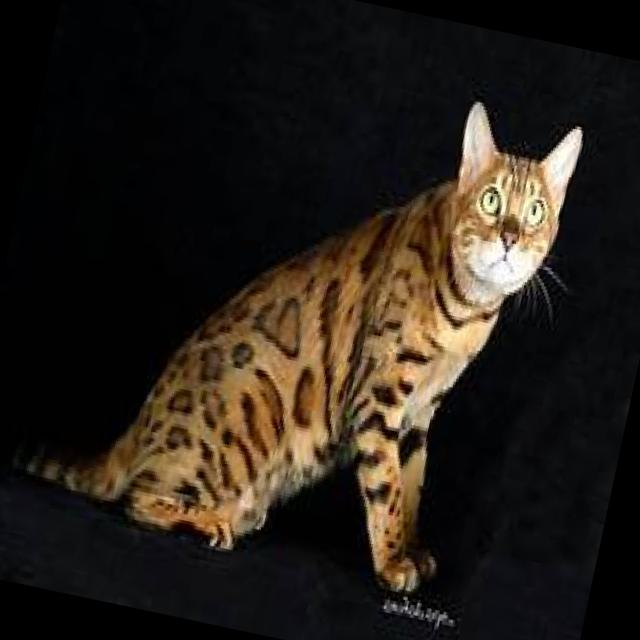cat: (3, 16, 604, 614)
